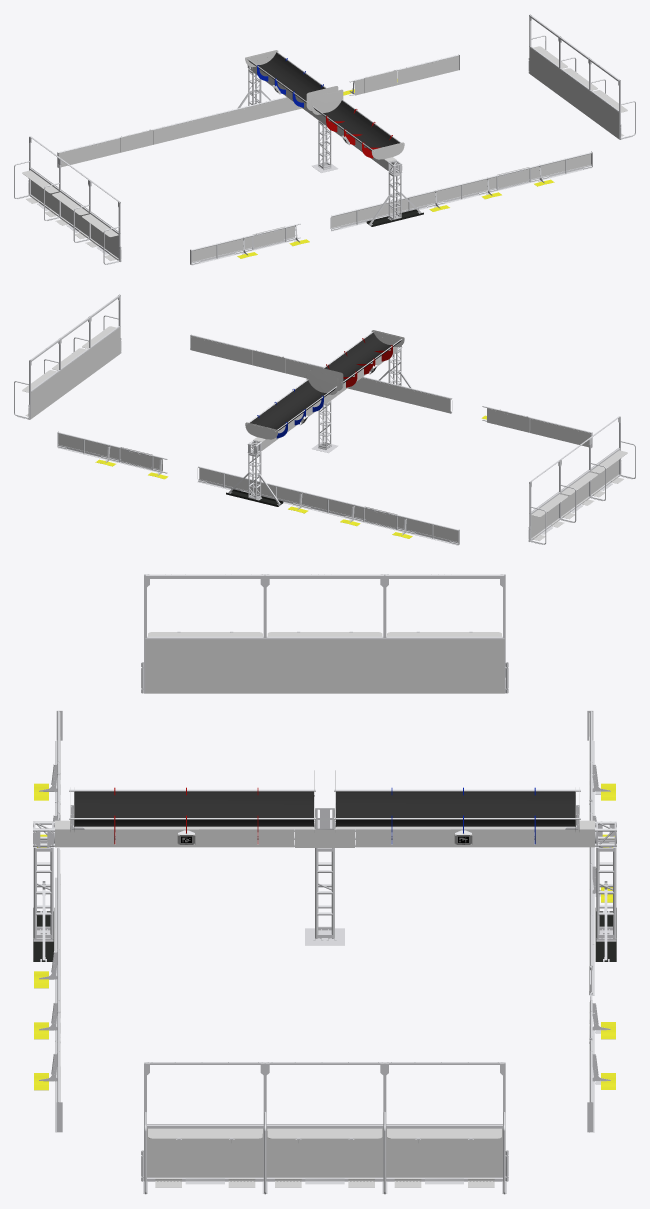
Rendered from 2025 - BargeAndWalls.fbx.
3 views of the same model, one above another, from view 1: azimuth 30°, elevation 25°; view 2: azimuth 150°, elevation 25°; view 3: azimuth 270°, elevation 25° (orthographic). The views are drawn at different scales.
Visible parts, largest first — view 1: BargeAndWalls; view 2: BargeAndWalls; view 3: BargeAndWalls.
Part boxes in pixels (x1,y1,x2,y2): BargeAndWalls: (14, 14, 635, 265); BargeAndWalls: (14, 294, 635, 545); BargeAndWalls: (33, 574, 616, 1194).
Bounding box in the file's own units: 1873 × 257 × 890.
